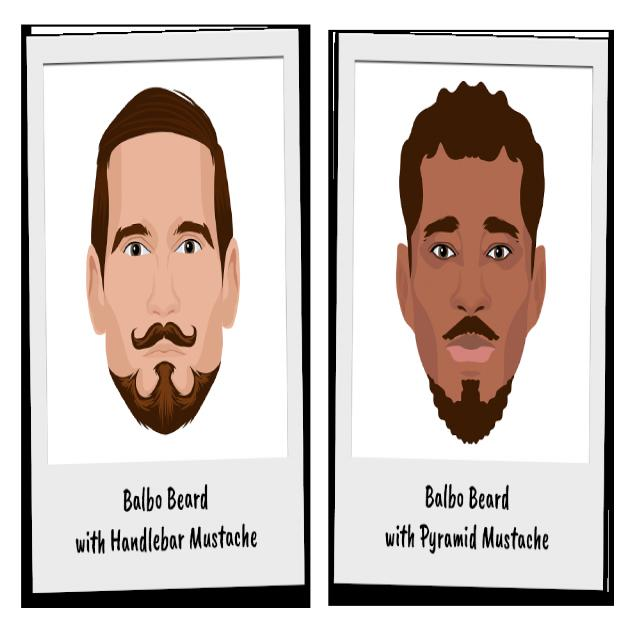beard: (110, 361, 220, 434), (429, 374, 515, 444), (131, 321, 196, 349)
hair: (400, 80, 546, 271), (90, 86, 233, 275)
